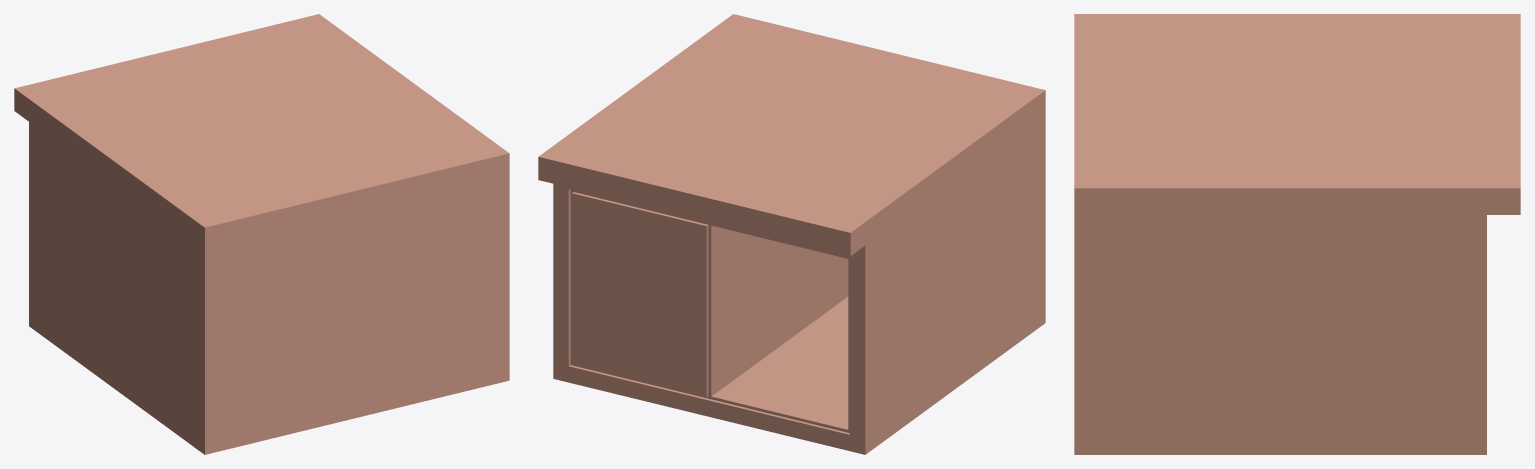
The model's file is Barra_De_Cosina_002.fbx.
The picture shows the model from 3 angles, left to right: view 1: azimuth 30°, elevation 25°; view 2: azimuth 150°, elevation 25°; view 3: azimuth 270°, elevation 25°; orthographic projection. The views are drawn at different scales.
Parts seen in each view (by area): view 1: Barra_De_Cosina_003; view 2: Barra_De_Cosina_003; view 3: Barra_De_Cosina_003.
Part boxes in pixels (<box>): Barra_De_Cosina_003: <box>14,14,509,454</box>; Barra_De_Cosina_003: <box>538,14,1045,454</box>; Barra_De_Cosina_003: <box>1074,14,1520,454</box>.
Bounding box in the file's own units: 0.02 × 0.0143 × 0.0216.
